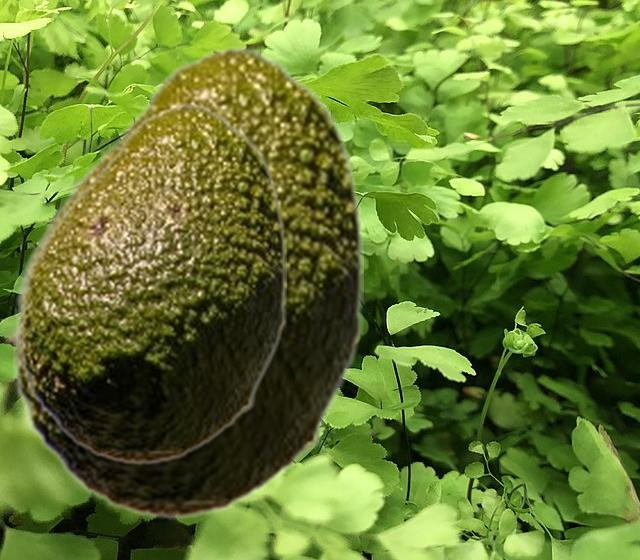avocado: (13, 46, 362, 520), (19, 103, 285, 465)
